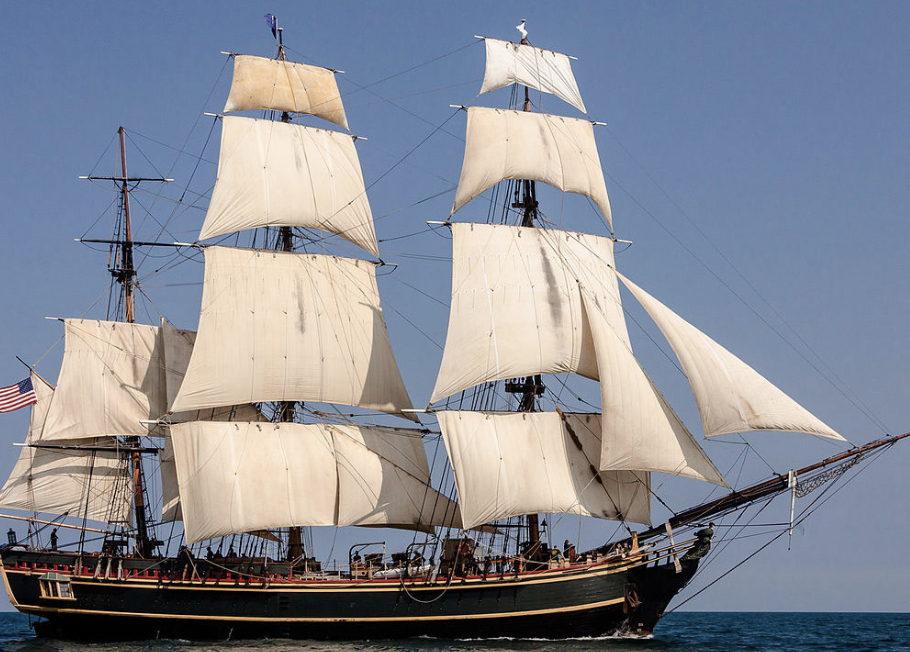ship: (19, 23, 896, 635)
